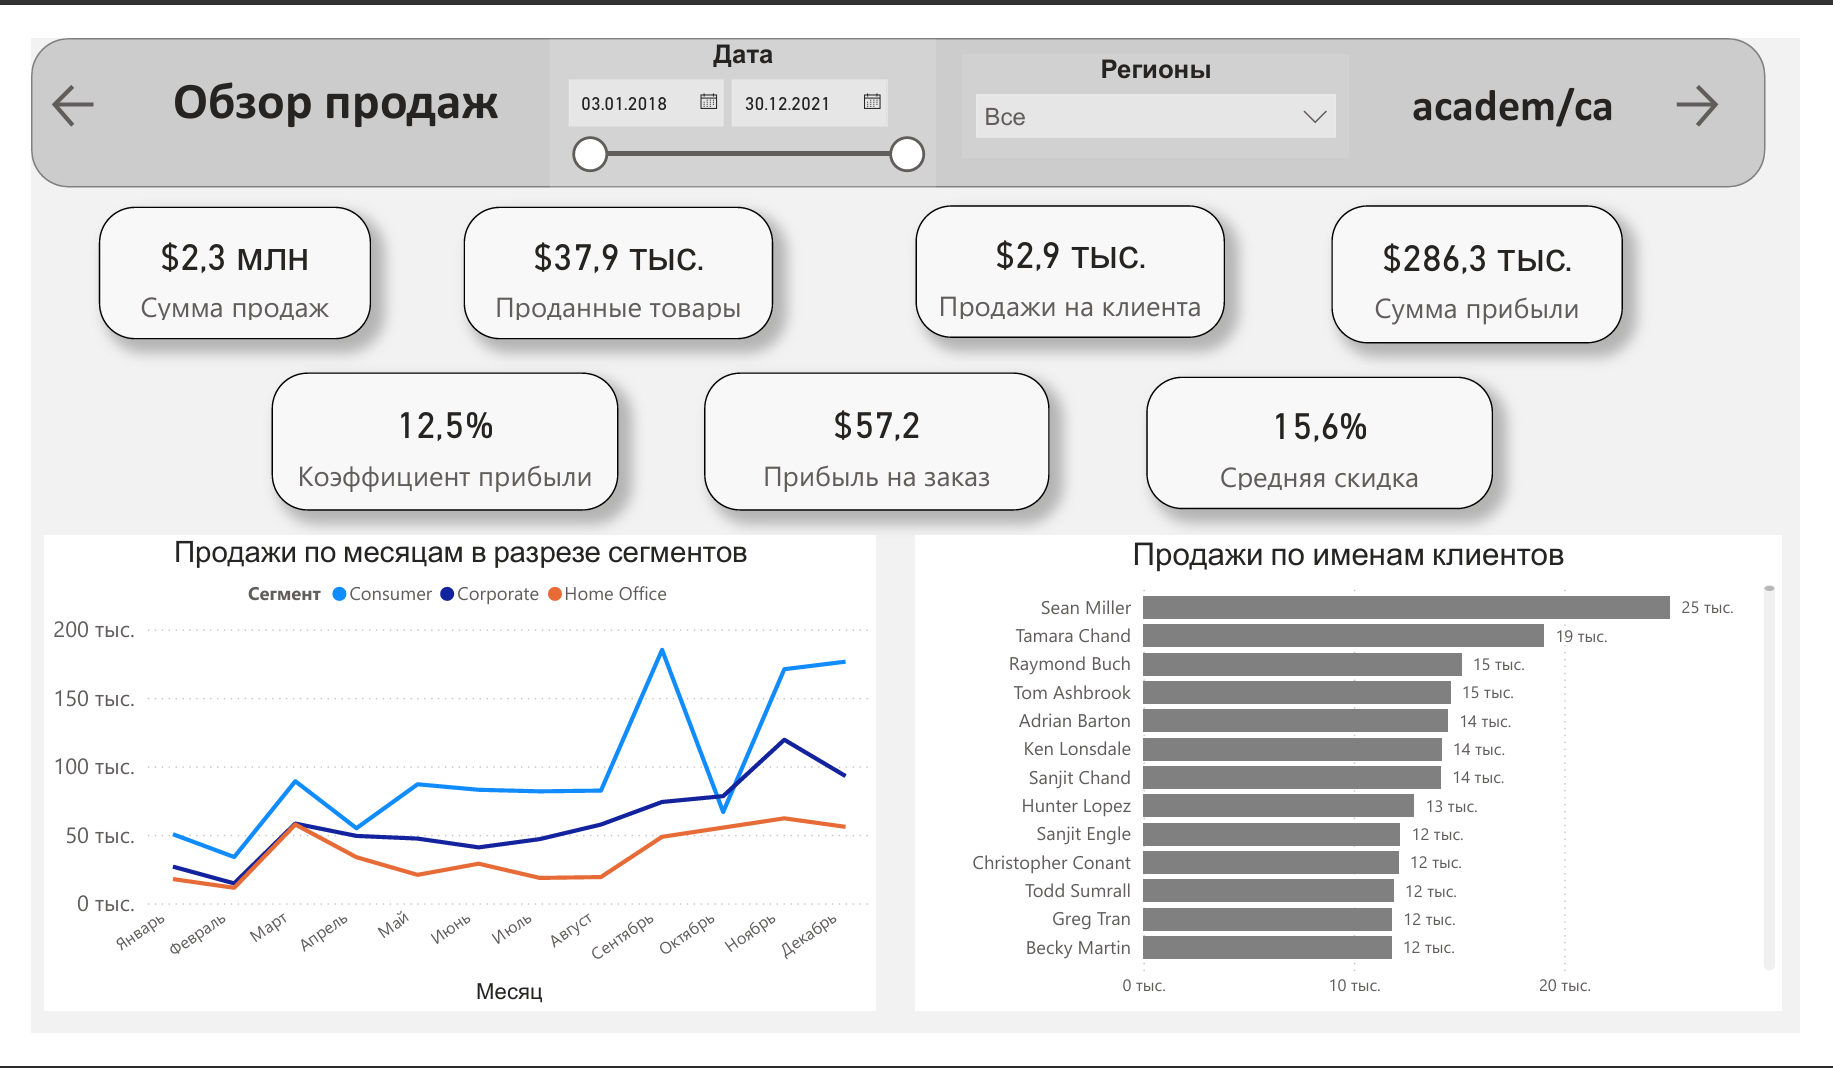

The dashboard page shown, as its layout file describes it:
{"tool":"powerbi","page":{"name":"Продажи","canvas":[1280,720],"ordinal":1},"visuals":[{"type":"shape","box":[0,0,1255.2,107.7],"z":0},{"type":"textbox","box":[982,24.1,181,50.7],"z":1000},{"type":"textbox","box":[82,16.9,269,65.1],"z":2000},{"type":"card","fields":{"Values":["МЕРЫ.Total_Sales"]},"box":[48.7,122.4,197.6,95.9],"z":3000},{"type":"card","fields":{"Values":["МЕРЫ.Total_Profit"]},"box":[941,120.9,210.9,100.3],"z":4000},{"type":"card","fields":{"Values":["МЕРЫ.Total_Quantity"]},"box":[312.7,122.4,224.2,95.9],"z":5000},{"type":"card","fields":{"Values":["МЕРЫ.Average_Discount"]},"box":[806.8,244.8,250.7,95.9],"z":6000},{"type":"card","fields":{"Values":["МЕРЫ.Sales_per_Customer"]},"box":[640.1,120.9,224.2,95.9],"z":7000},{"type":"card","fields":{"Values":["МЕРЫ.Profit_Ratio"]},"box":[174,241.9,250.7,100.3],"z":8000},{"type":"card","fields":{"Values":["МЕРЫ.Profit_Per_Order"]},"box":[486.7,241.9,250.7,100.3],"z":9000},{"type":"lineChart","title":"Продажи по месяцам в разрезе сегментов","fields":{"Category":["Sample - Superstore_Orders.Order Date.Изменение.Иерархия дат.Месяц"],"Series":["Sample - Superstore_Orders.Segment"],"Y":["Sum(Sample - Superstore_Orders.Sales)"]},"box":[10.3,359.9,601.8,343.7],"z":10000},{"type":"barChart","title":"Продажи по именам клиентов","fields":{"Category":["Sample - Superstore_Orders.Customer Name"],"Y":["Sum(Sample - Superstore_Orders.Sales)"]},"box":[640.1,359.9,626.9,343.7],"z":11000},{"type":"slicer","title":"Регионы","fields":{"Values":["Sample - Superstore_Orders.Region"]},"box":[674.1,11.8,280.2,75.2],"z":12000},{"type":"slicer","title":"Дата","fields":{"Values":["Sample - Superstore_Orders.Order Date"]},"box":[376.1,1.5,278.8,107.7],"z":13000},{"type":"actionButton","box":[10.9,29,53.1,39.8],"z":13001},{"type":"actionButton","box":[1184.7,29,59.1,39.8],"z":13002}]}

Visuals, with their boxes on the page's 1280x720 design canvas (x1, y1, x2, y2). These are canvas units, not pixel positions in the 1833x1068 screenshot, which may show the page scaled, cropped or inside an application window:
shape: detection(0, 0, 1255, 108)
textbox: detection(982, 24, 1163, 75)
textbox: detection(82, 17, 351, 82)
card - МЕРЫ.Total_Sales: detection(49, 122, 246, 218)
card - МЕРЫ.Total_Profit: detection(941, 121, 1152, 221)
card - МЕРЫ.Total_Quantity: detection(313, 122, 537, 218)
card - МЕРЫ.Average_Discount: detection(807, 245, 1058, 341)
card - МЕРЫ.Sales_per_Customer: detection(640, 121, 864, 217)
card - МЕРЫ.Profit_Ratio: detection(174, 242, 425, 342)
card - МЕРЫ.Profit_Per_Order: detection(487, 242, 737, 342)
"Продажи по месяцам в разрезе сегментов" lineChart: detection(10, 360, 612, 704)
"Продажи по именам клиентов" barChart: detection(640, 360, 1267, 704)
"Регионы" slicer: detection(674, 12, 954, 87)
"Дата" slicer: detection(376, 2, 655, 109)
actionButton: detection(11, 29, 64, 69)
actionButton: detection(1185, 29, 1244, 69)
